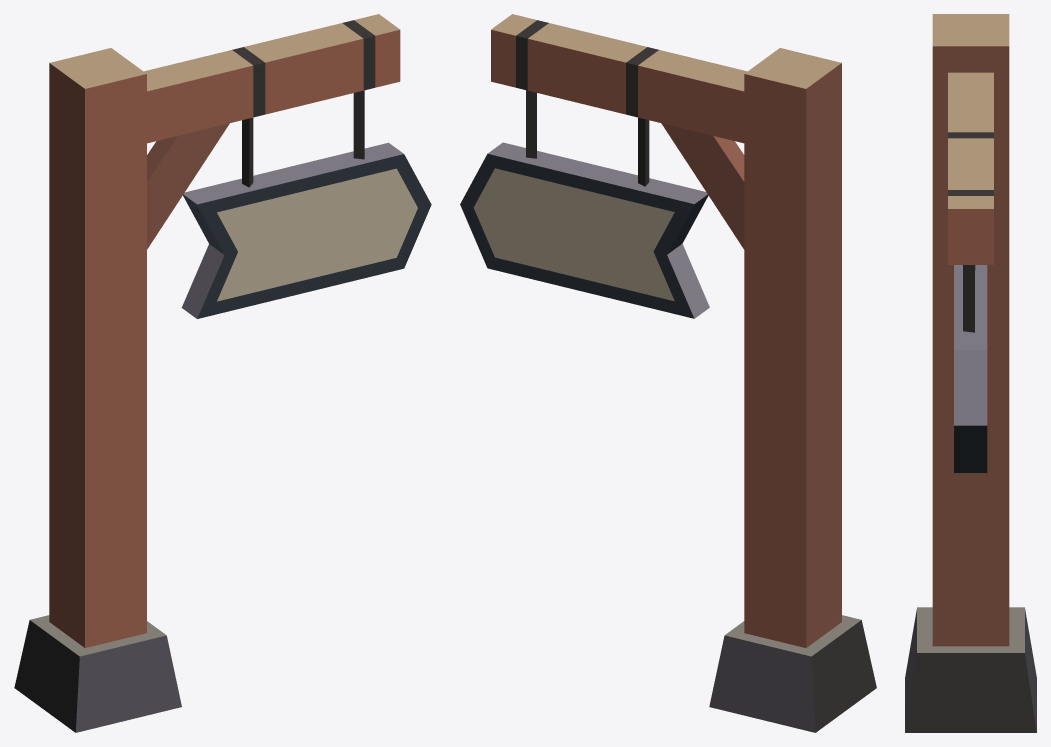
File: TB_Prop_Sign_Arrow_C.FBX
The picture shows the model from 3 angles, left to right: view 1: azimuth 30°, elevation 25°; view 2: azimuth 150°, elevation 25°; view 3: azimuth 270°, elevation 25°; orthographic projection. The views are drawn at different scales.
Visible parts, largest first — view 1: TB_Prop_Sign_Arrow_C; view 2: TB_Prop_Sign_Arrow_C; view 3: TB_Prop_Sign_Arrow_C.
Part boxes in pixels (bbox=[...]): TB_Prop_Sign_Arrow_C: bbox=[14, 14, 431, 732]; TB_Prop_Sign_Arrow_C: bbox=[460, 14, 876, 732]; TB_Prop_Sign_Arrow_C: bbox=[905, 14, 1036, 732].
Bounding box in the file's own units: 1.85 × 2.93 × 0.5186.
